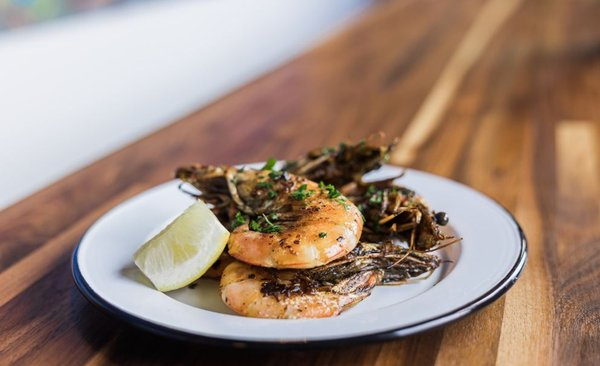curry: (1, 3, 582, 362)
